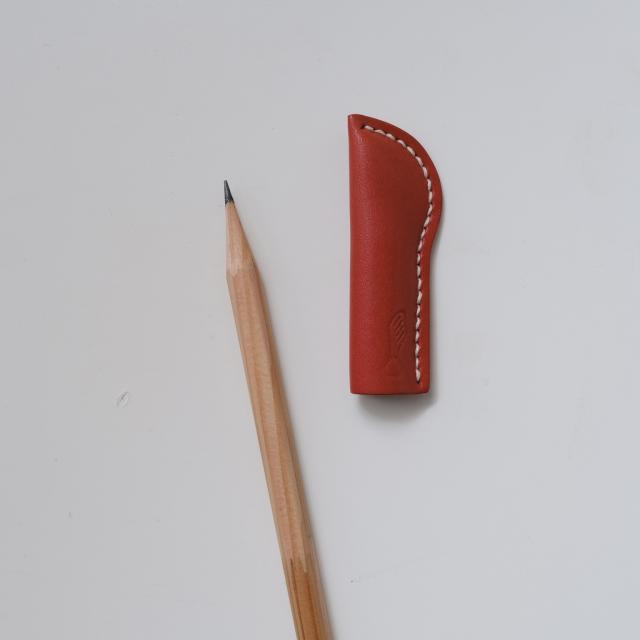pencil: (219, 172, 339, 640)
